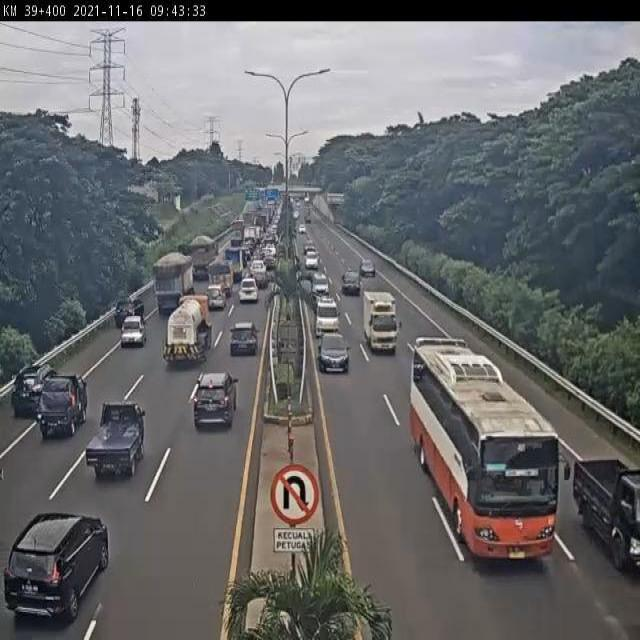big bus: (409, 336, 571, 563)
car: (5, 511, 109, 621), (573, 459, 640, 568), (84, 397, 148, 480), (37, 374, 89, 442), (191, 368, 239, 435), (12, 363, 54, 420), (316, 334, 349, 374), (230, 320, 260, 355), (120, 316, 149, 351), (114, 299, 147, 329), (315, 296, 338, 336), (237, 278, 259, 306), (206, 287, 227, 313)
small truck: (361, 289, 400, 356)
truck-m-: (163, 292, 216, 369), (154, 251, 197, 320)
